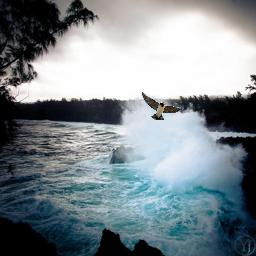Swallow: (141, 91, 184, 120)
